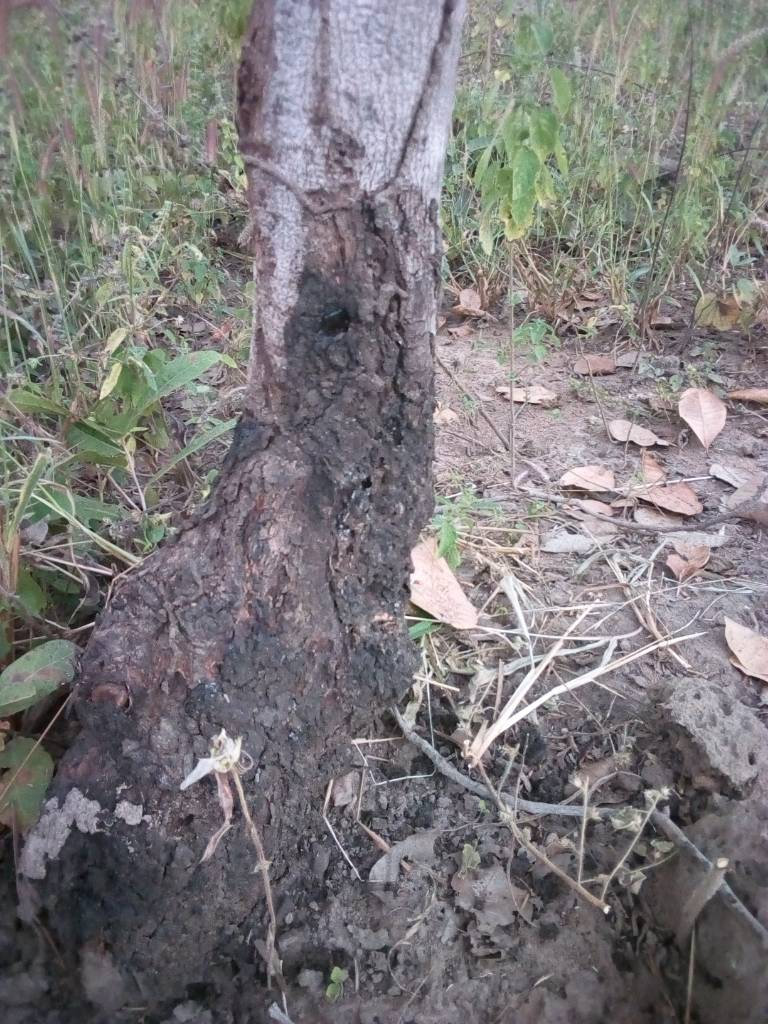Gommose: (280, 211, 425, 627), (140, 619, 311, 838)
